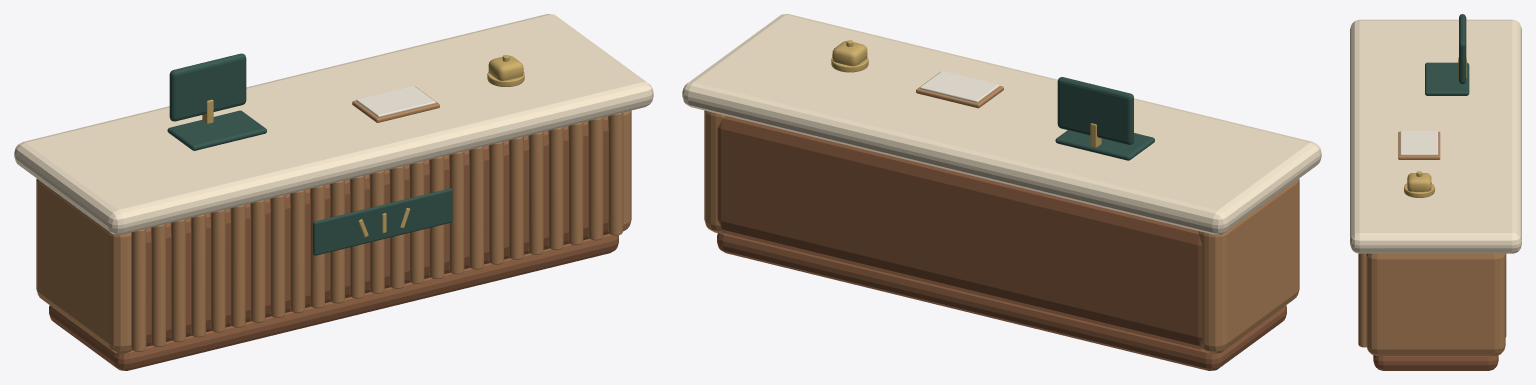
Rendered from reception-desk 2.glb.
3 renders of one model, left to right at view 1: azimuth 30°, elevation 25°; view 2: azimuth 150°, elevation 25°; view 3: azimuth 270°, elevation 25°, orthographic. The views are drawn at different scales.
Visible parts, largest first — view 1: reception-desk / Ivory stone, reception-desk / Oak, reception-desk / Oak endgrain, reception-desk / Dark hardware, reception-desk / Brass, reception-desk / Warm linen; view 2: reception-desk / Oak endgrain, reception-desk / Ivory stone, reception-desk / Oak, reception-desk / Dark hardware, reception-desk / Warm linen, reception-desk / Brass; view 3: reception-desk / Ivory stone, reception-desk / Oak, reception-desk / Oak endgrain, reception-desk / Dark hardware, reception-desk / Warm linen, reception-desk / Brass.
Part boxes in pixels (x1,y1,x2,y2): reception-desk / Ivory stone: [14, 14, 653, 234]; reception-desk / Oak: [36, 86, 631, 353]; reception-desk / Oak endgrain: [49, 116, 618, 370]; reception-desk / Dark hardware: [167, 53, 452, 255]; reception-desk / Brass: [202, 55, 524, 237]; reception-desk / Warm linen: [356, 85, 435, 117]; reception-desk / Oak endgrain: [717, 116, 1286, 370]; reception-desk / Ivory stone: [682, 14, 1321, 234]; reception-desk / Oak: [704, 72, 1299, 353]; reception-desk / Dark hardware: [1055, 77, 1154, 160]; reception-desk / Warm linen: [920, 71, 999, 102]; reception-desk / Brass: [831, 40, 1101, 147]; reception-desk / Ivory stone: [1350, 19, 1521, 253]; reception-desk / Oak: [1358, 131, 1505, 355]; reception-desk / Oak endgrain: [1373, 254, 1506, 370]; reception-desk / Dark hardware: [1425, 14, 1469, 95]; reception-desk / Warm linen: [1400, 131, 1438, 155]; reception-desk / Brass: [1404, 57, 1466, 197].
Size of the model in its own units: 4.7 by 1.99 by 1.55.
